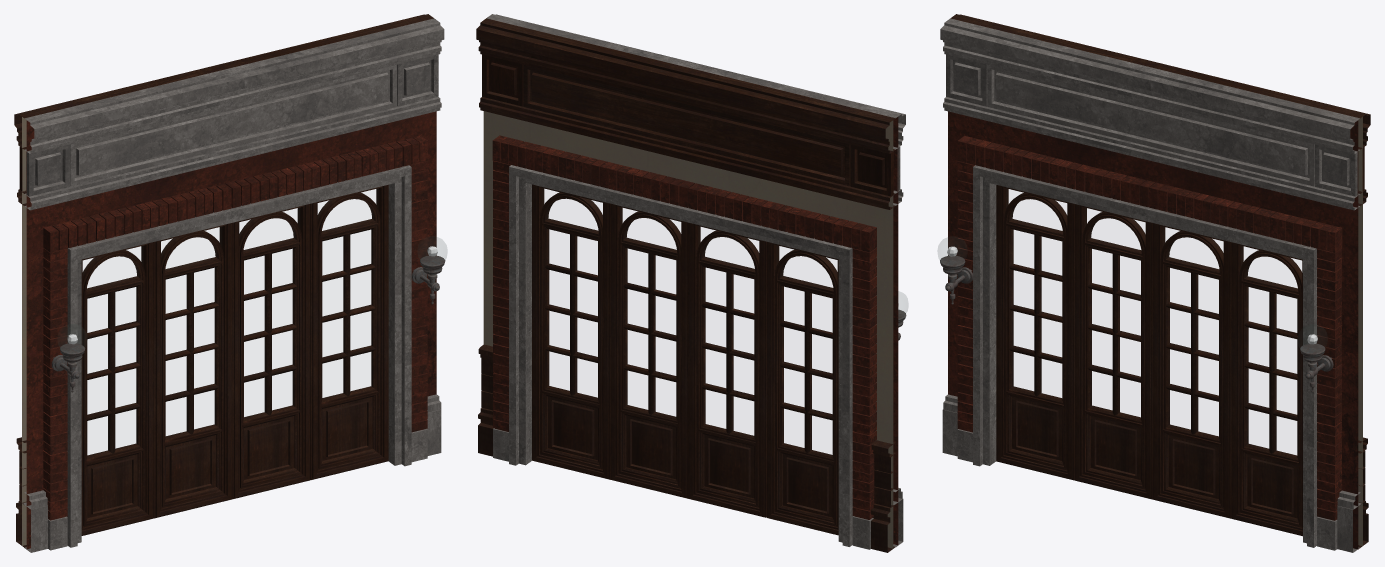
The model's file is SK6 DOOR 3.fbx.
3 renders of one model, left to right at view 1: azimuth 30°, elevation 25°; view 2: azimuth 150°, elevation 25°; view 3: azimuth 330°, elevation 25°, orthographic.
Parts seen in each view (by area): view 1: SK6 DOOR 3; view 2: SK6 DOOR 3; view 3: SK6 DOOR 3.
Boxes of the visible parts, x1,y1,x2,y2 form: SK6 DOOR 3: (14, 14, 446, 552); SK6 DOOR 3: (476, 14, 907, 552); SK6 DOOR 3: (938, 14, 1370, 552).
Bounding box in the file's own units: 400 × 400 × 71.62.
